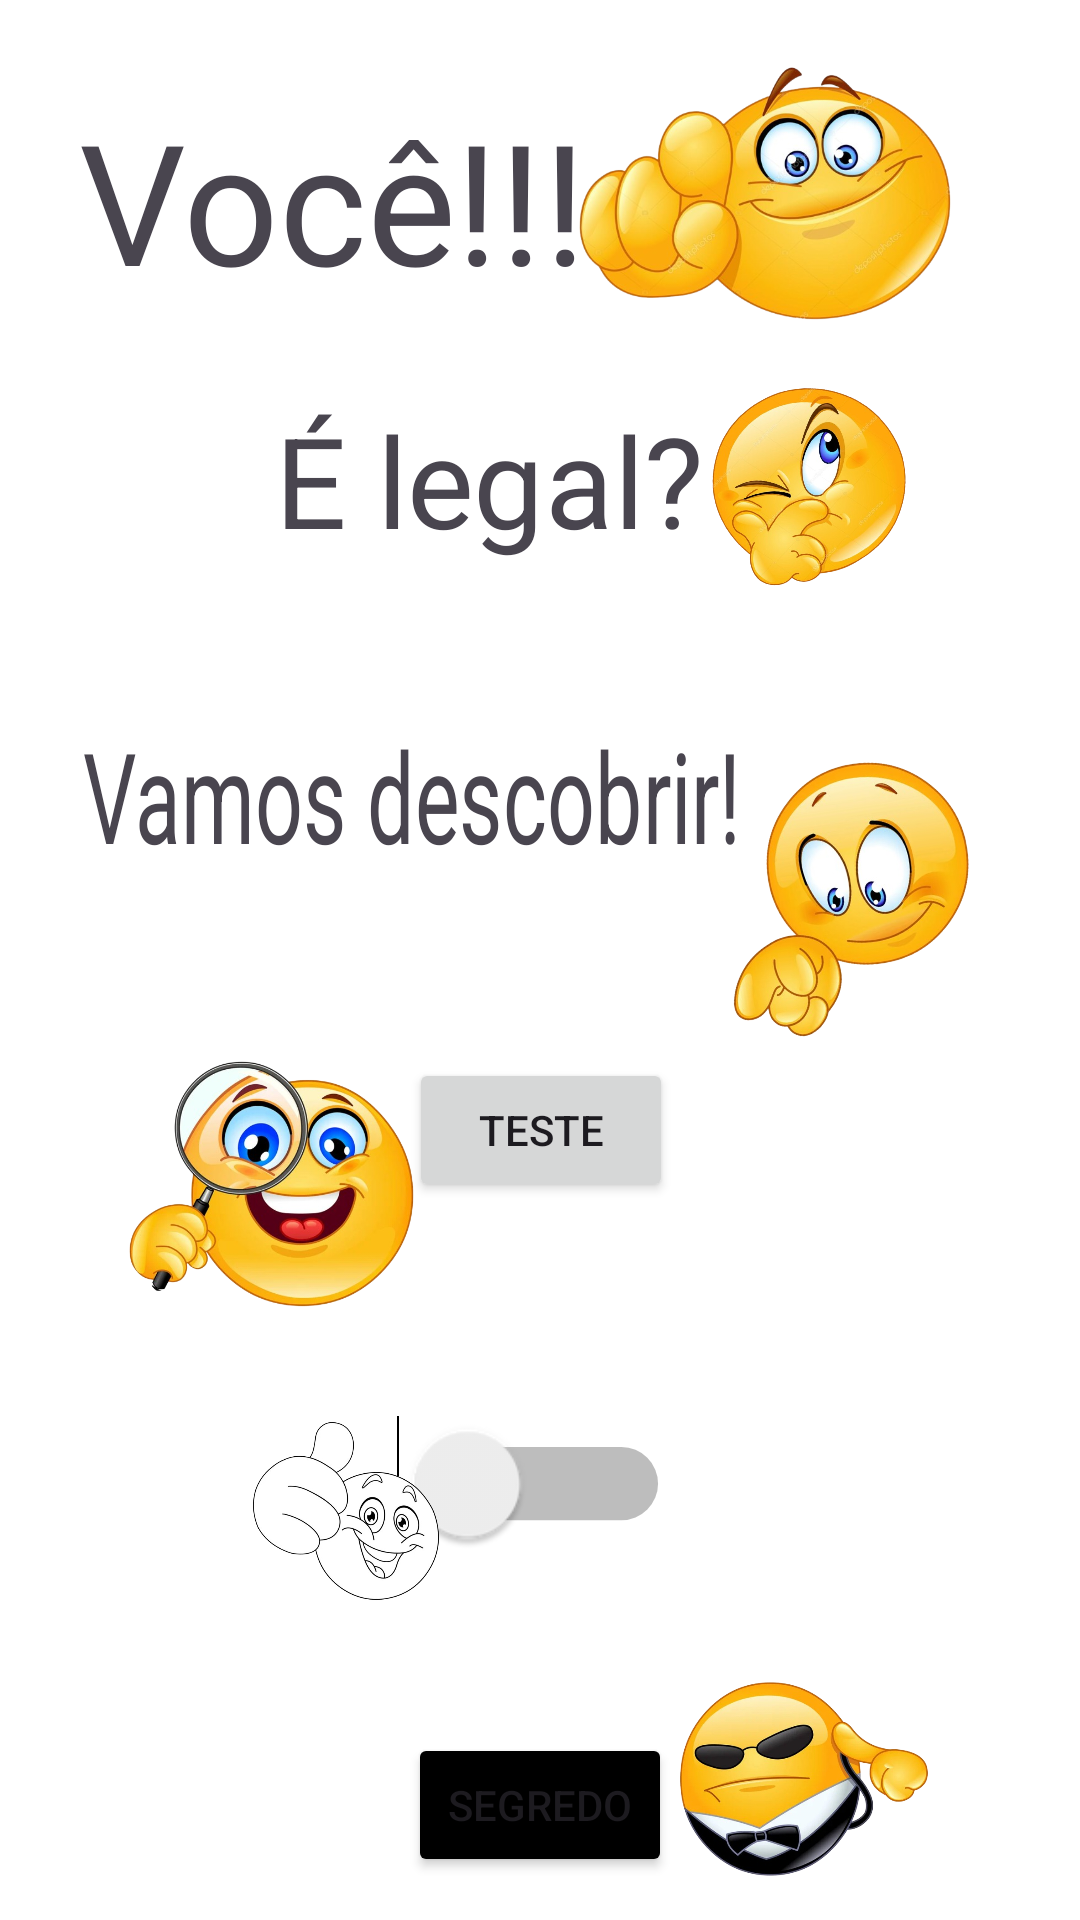

Screen size 1080px x 1920px. Icon name, then its box in pixels as (x1, y1, x2, y2):
agente: (680, 1682, 928, 1876)
procura: (129, 1061, 414, 1307)
